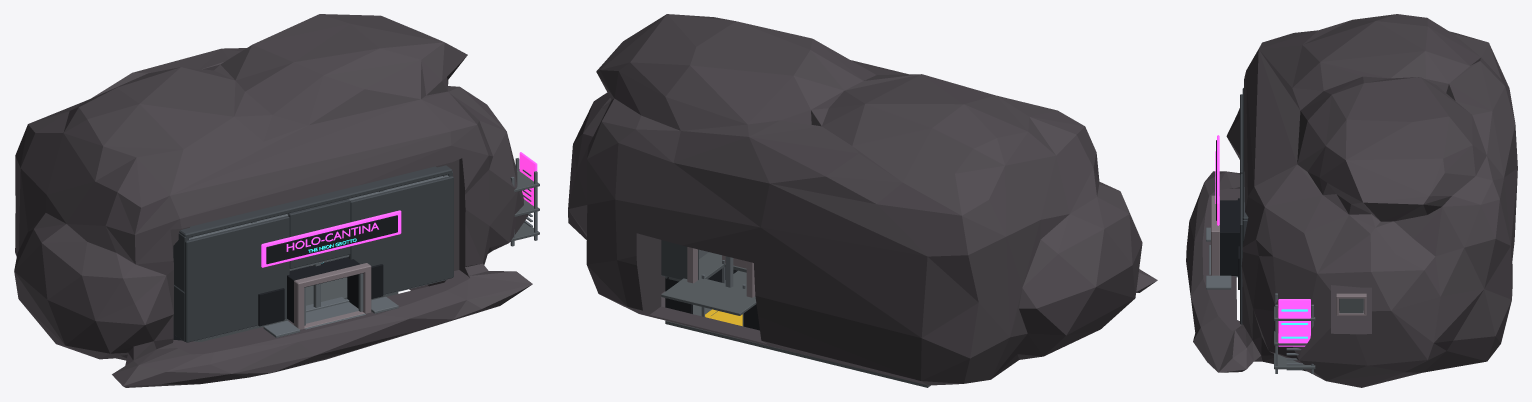
Rendered from holo_cantina_arch_shell_v2.glb.
3 renders of one model, left to right at view 1: azimuth 30°, elevation 25°; view 2: azimuth 150°, elevation 25°; view 3: azimuth 270°, elevation 25°, orthographic. The views are drawn at different scales.
Visible parts, largest first — view 1: HC_shell_asteroid_monolith, HC_shell_front_facade_panels_left, HC_shell_front_facade_panels_right, HC_shell_roof_service_cap, HC_sign_front_holo_cantina_inset, HC_shell_front_facade_panels_header, HC_sign_front_holo_cantina_large, HC_entry_front_bouncer_alcove_left, HC_floor_ground_front_lobby_strip, HC_entry_front_lobby_ceiling, HC_entry_front_airlock_frame_header, HC_floor_ground_main (+5 smaller); view 2: HC_shell_asteroid_monolith, HC_route_tech_loading_dock_corridor, HC_floor_basement_service_room, HC_shell_rear_service_wall_lower_right, HC_floor_ground_lift_right_strip; view 3: HC_shell_asteroid_monolith, HC_sign_side_vertical_neon, HC_entry_front_lobby_right_wall, HC_entry_front_lobby_ceiling, HC_shell_front_facade_panels_right, HC_entry_stealth_vip_vent_grate, HC_entry_front_bouncer_pad_right, HC_entry_front_airlock_frame_right, HC_route_stealth_platform_low, HC_shell_roof_service_cap.
Boxes of the visible parts, x1=… form: HC_shell_asteroid_monolith: x1=14, y1=14, x2=532, y2=387; HC_shell_front_facade_panels_left: x1=185, y1=216, x2=289, y2=342; HC_shell_front_facade_panels_right: x1=348, y1=176, x2=453, y2=294; HC_shell_roof_service_cap: x1=179, y1=165, x2=452, y2=237; HC_sign_front_holo_cantina_inset: x1=266, y1=215, x2=397, y2=264; HC_shell_front_facade_panels_header: x1=287, y1=199, x2=350, y2=268; HC_sign_front_holo_cantina_large: x1=261, y1=210, x2=401, y2=267; HC_entry_front_bouncer_alcove_left: x1=258, y1=288, x2=284, y2=326; HC_floor_ground_front_lobby_strip: x1=304, y1=297, x2=365, y2=329; HC_entry_front_lobby_ceiling: x1=287, y1=257, x2=364, y2=287; HC_entry_front_airlock_frame_header: x1=294, y1=263, x2=371, y2=288; HC_floor_ground_main: x1=306, y1=256, x2=348, y2=305; HC_shell_asteroid_monolith: x1=568, y1=14, x2=1157, y2=385; HC_route_tech_loading_dock_corridor: x1=661, y1=278, x2=756, y2=315; HC_floor_basement_service_room: x1=665, y1=270, x2=930, y2=387; HC_shell_rear_service_wall_lower_right: x1=661, y1=240, x2=698, y2=279; HC_floor_ground_lift_right_strip: x1=665, y1=252, x2=723, y2=281; HC_shell_asteroid_monolith: x1=1186, y1=14, x2=1517, y2=387; HC_sign_side_vertical_neon: x1=1278, y1=299, x2=1310, y2=346; HC_entry_front_lobby_right_wall: x1=1220, y1=235, x2=1239, y2=275; HC_entry_front_lobby_ceiling: x1=1220, y1=200, x2=1239, y2=234; HC_shell_front_facade_panels_right: x1=1240, y1=174, x2=1242, y2=324; HC_entry_stealth_vip_vent_grate: x1=1339, y1=298, x2=1363, y2=313; HC_entry_front_bouncer_pad_right: x1=1206, y1=275, x2=1231, y2=289; HC_entry_front_airlock_frame_right: x1=1211, y1=236, x2=1219, y2=275; HC_route_stealth_platform_low: x1=1274, y1=353, x2=1315, y2=369; HC_shell_roof_service_cap: x1=1242, y1=88, x2=1248, y2=219.
Size of what is drawn, in the model's own units: 57.08 by 27.44 by 34.35.
